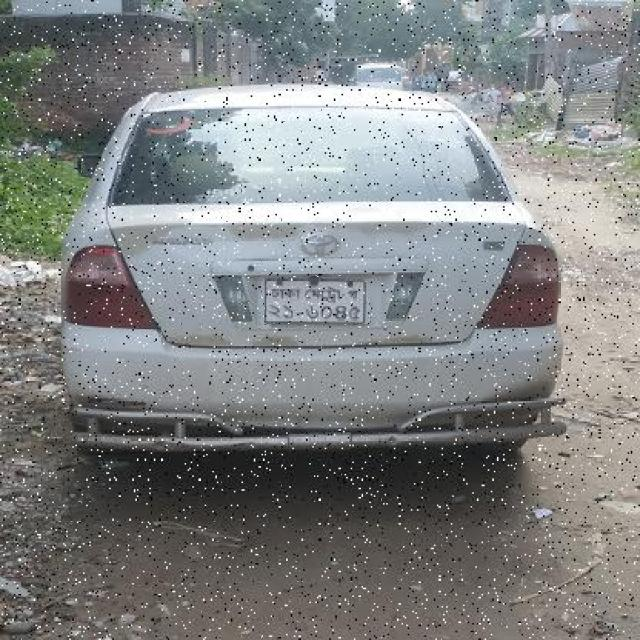numberplate: (264, 276, 370, 324)
